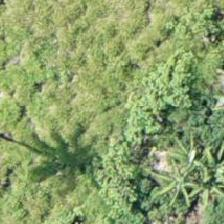coconut_tree: (134, 134, 223, 223)
